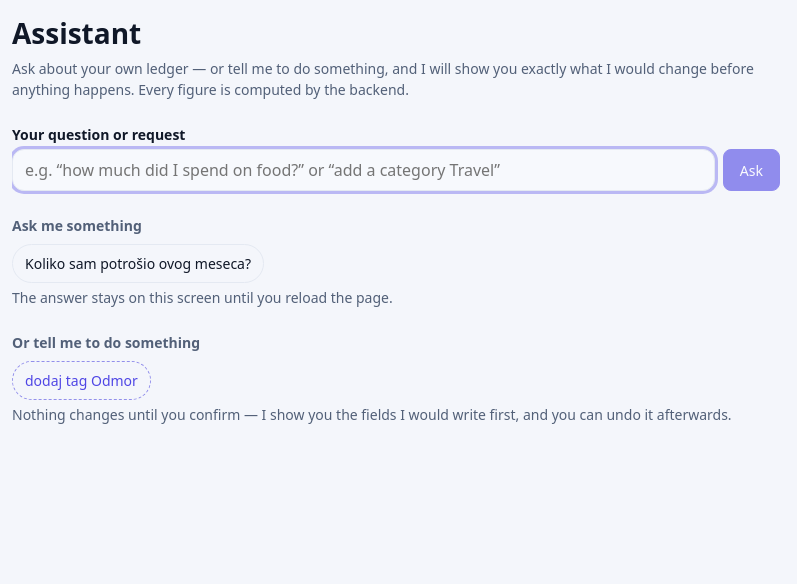
Scenario: the assistant screen › offers what the assistant can **do** as chips, and a click really proposes it
The width and height of the screenshot is (797, 584).
Click the button with class "chip--action".
click(81, 380)  # box x1=12 y1=361 x2=151 y2=400
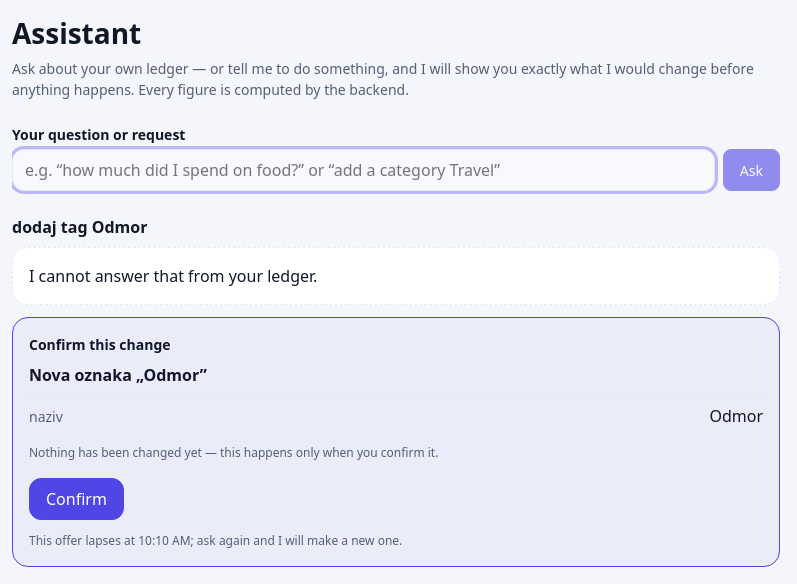
expect the text "dodaj tag Odmor" is shown: met, box x1=12 y1=216 x2=148 y2=238
expect the element with class "act" is shown: met, box x1=12 y1=317 x2=780 y2=567
